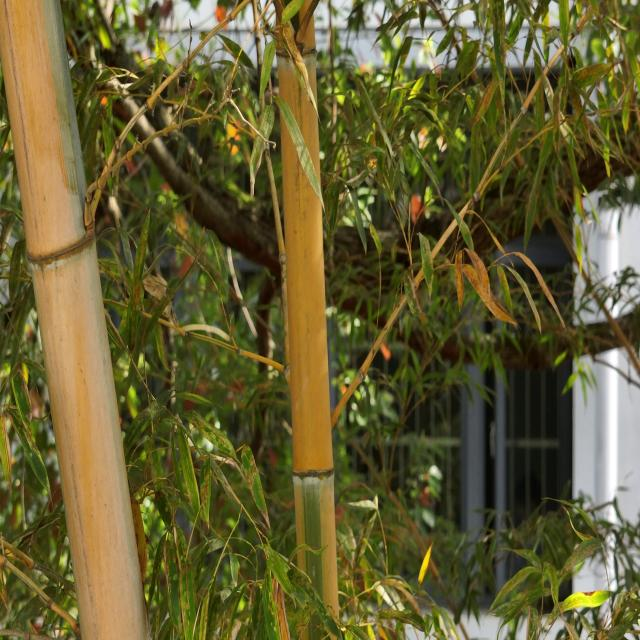Bamboo-shoots: (0, 0, 153, 640), (272, 0, 341, 640)
